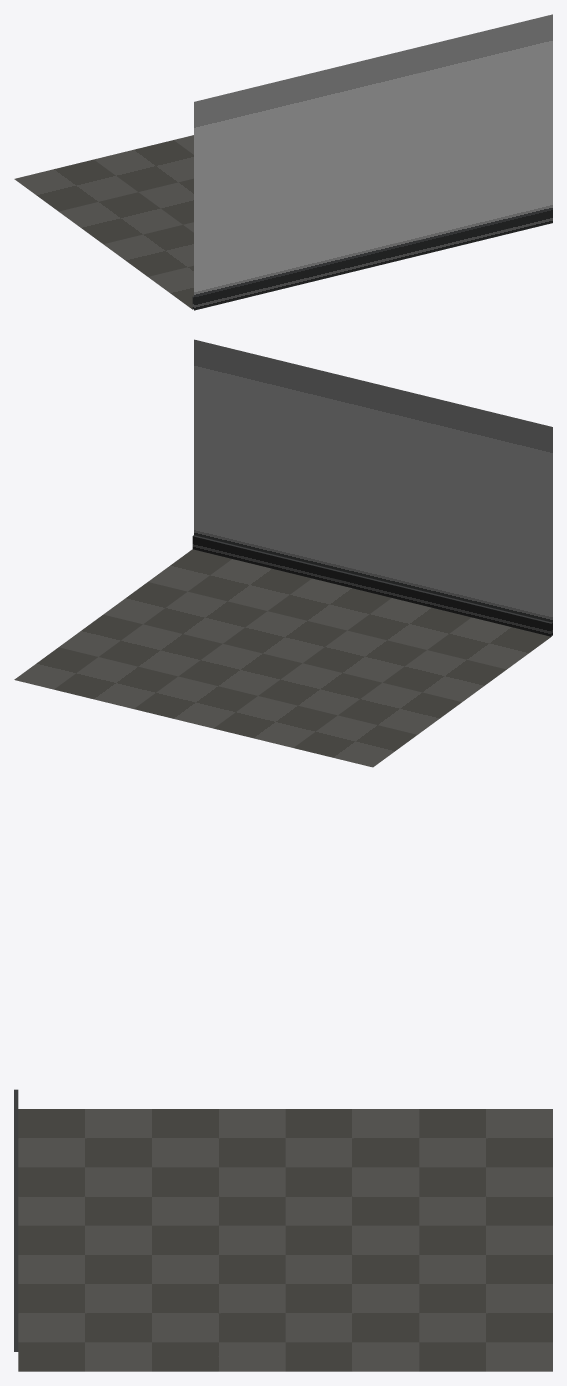
File: meettheteam.obj
3 views of the same model, one above another, from view 1: azimuth 30°, elevation 25°; view 2: azimuth 150°, elevation 25°; view 3: azimuth 270°, elevation 25° (orthographic). The views are drawn at different scales.
Parts seen in each view (by area): view 1: cube; view 2: cube; view 3: cube.
Part boxes in pixels (x1,y1,x2,y2): cube: (14,14,552,310); cube: (14,339,552,767); cube: (14,1089,552,1371).
Size of the model in its own units: 9 by 5 by 7.81.
4 materials, 4 textured.
